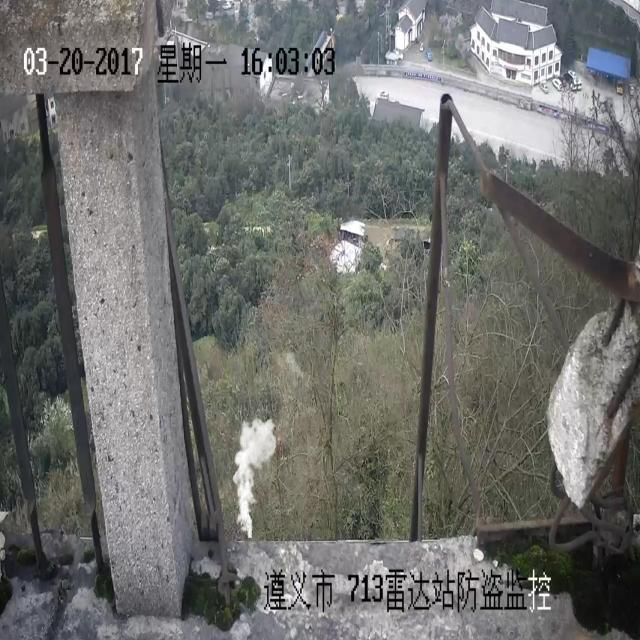Smoke: (230, 348, 308, 536)
